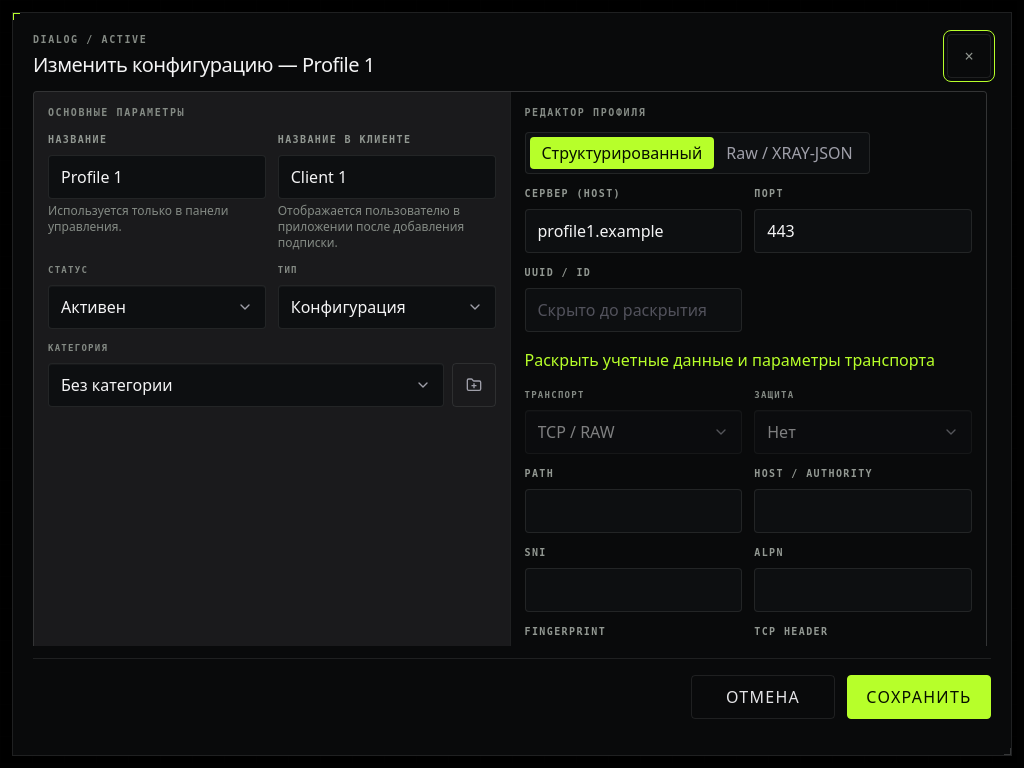
Scenario: editor request failure and dialog contracts › keeps credentials hidden and permits retry after reveal failure
The width and height of the screenshot is (1024, 768).
Expected: the field showing "Profile 1" is shown, x1=48 y1=155 x2=266 y2=199
Click the button "Раскрыть учетные данные и параметры транспорта": (730, 360) x1=524 y1=348 x2=935 y2=372
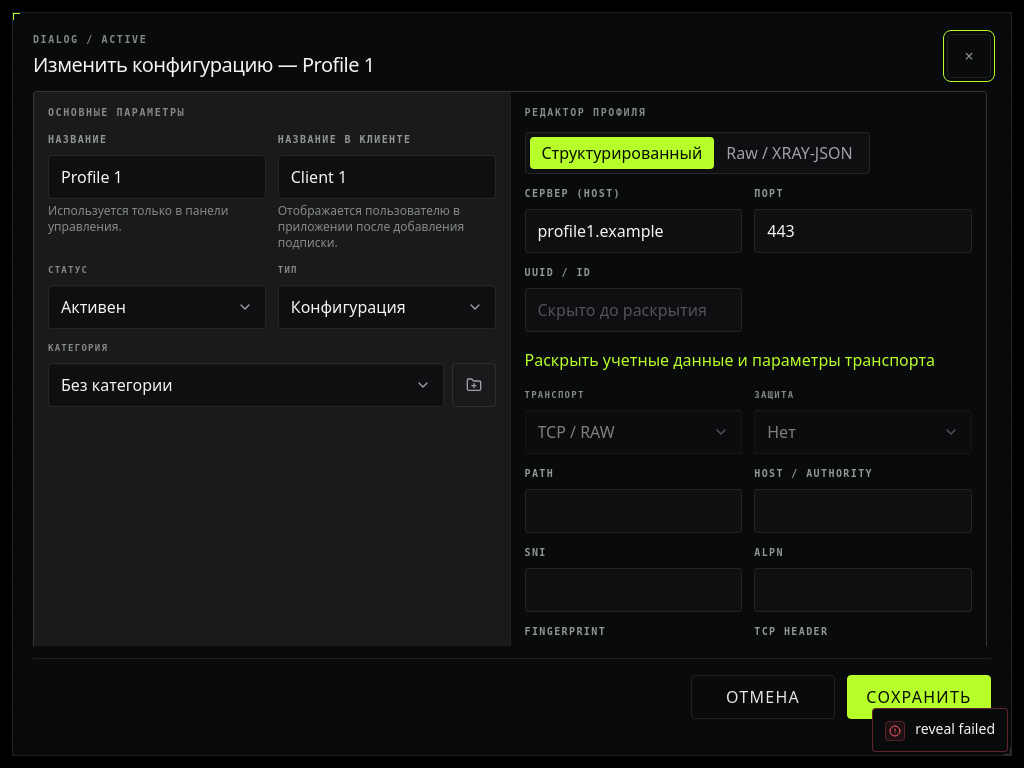
Expected: the field labelled "UUID / ID" is empty, x1=524 y1=288 x2=742 y2=332
Expected: the text "reveal failed" is shown, x1=915 y1=719 x2=995 y2=739
Click the button "Раскрыть учетные данные и параметры транспорта": (730, 360) x1=524 y1=348 x2=935 y2=372
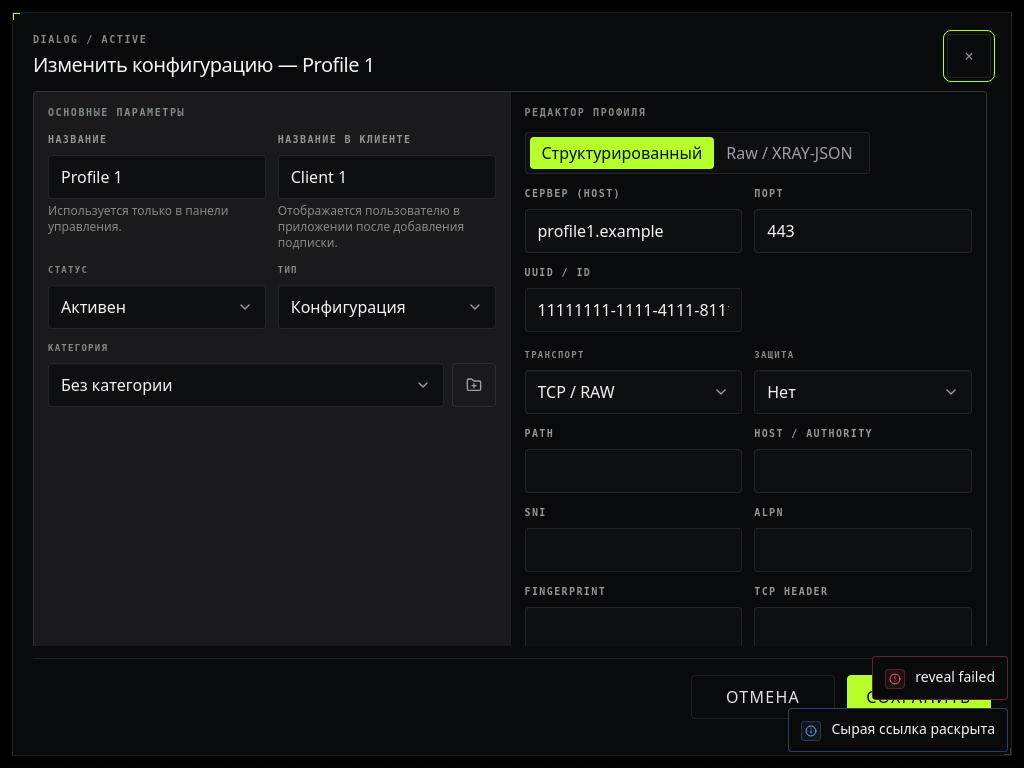
Expected: the field showing "11111111-1111-4111-8111-111111111111" is shown, x1=524 y1=288 x2=742 y2=332
